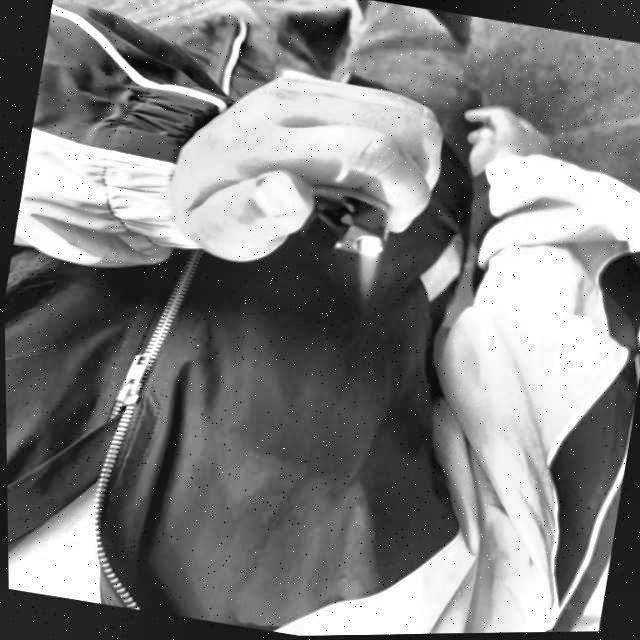Fire: (352, 235, 381, 299)
